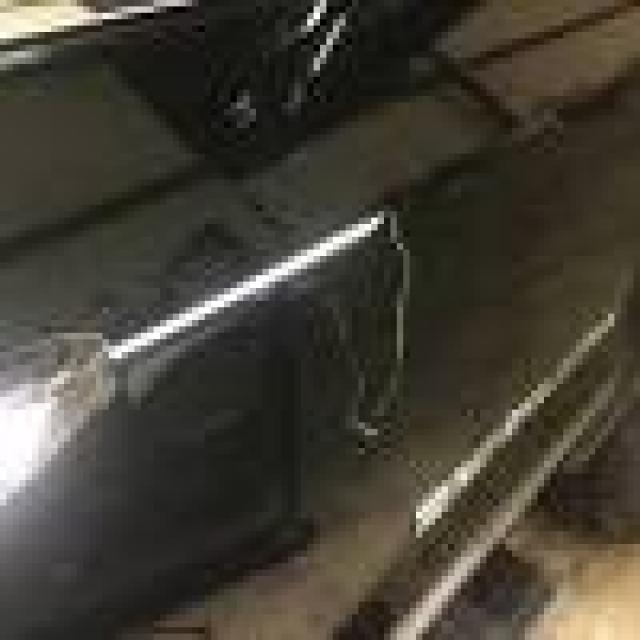minor: (288, 135, 462, 502)
